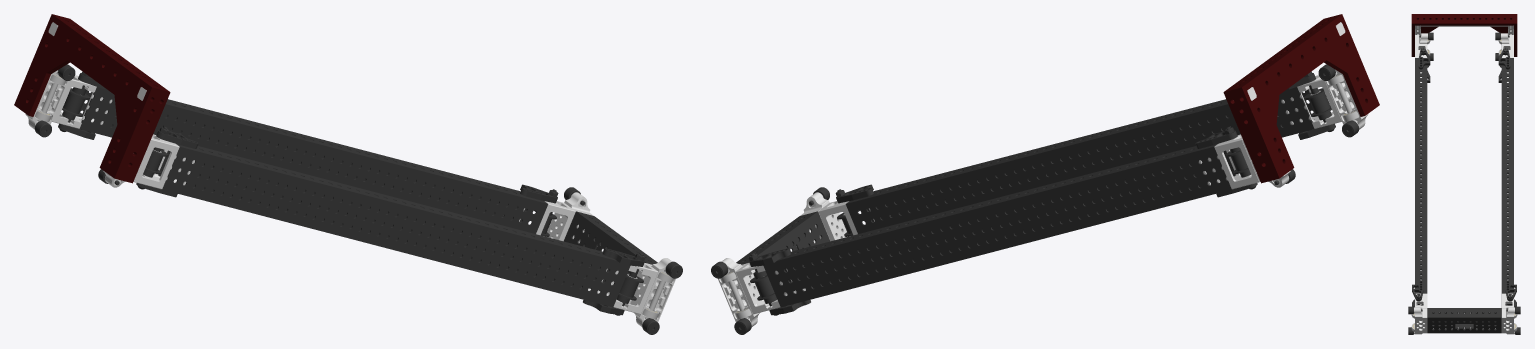
3 renders of one model, left to right at view 1: azimuth 30°, elevation 25°; view 2: azimuth 150°, elevation 25°; view 3: azimuth 270°, elevation 25°, orthographic. The views are drawn at different scales.
Parts seen in each view (by area): view 1: 2" x 1" x 0.0625" Aluminum Box Tube (24.5" L, Full Pattern,  (×2), Part 34, WCP-2113-001 Rev1 (×4), Part 35, Tube 2"x1"x6", Part 36, WCP-2072-001 Rev1, WCP-2072-001 Rev1-Mirrored; view 2: 2" x 1" x 0.0625" Aluminum Box Tube (24.5" L, Full Pattern,  (×2), Part 34, WCP-2113-001 Rev1 (×4), Part 35, Tube 2"x1"x6", Part 36, WCP-2072-001 Rev1-Mirrored, WCP-2072-001 Rev1; view 3: 2" x 1" x 0.0625" Aluminum Box Tube (24.5" L, Full Pattern,  (×2), Tube 2"x1"x6", Part 36, Continuous Elevator Hardstop (×4), WCP-2113-001 Rev1 (×4), WCP-2072-001 Rev1 (×2), WCP-2072-001 Rev1-Mirrored (×2), Part 35 (×2), Part 34.
Boxes of the visible parts, bbox=[...] form: 2" x 1" x 0.0625" Aluminum Box Tube (24.5" L, Full Pattern,  (×2): bbox=[79, 87, 630, 307]; Part 34: bbox=[17, 26, 142, 176]; WCP-2113-001 Rev1 (×4): bbox=[52, 75, 658, 314]; Part 35: bbox=[111, 91, 167, 183]; Tube 2"x1"x6": bbox=[564, 211, 657, 272]; Part 36: bbox=[49, 14, 170, 97]; WCP-2072-001 Rev1: bbox=[634, 258, 675, 326]; WCP-2072-001 Rev1-Mirrored: bbox=[25, 70, 68, 129]; 2" x 1" x 0.0625" Aluminum Box Tube (24.5" L, Full Pattern,  (×2): bbox=[763, 87, 1314, 307]; Part 34: bbox=[1251, 26, 1376, 176]; WCP-2113-001 Rev1 (×4): bbox=[735, 75, 1341, 314]; Part 35: bbox=[1226, 91, 1282, 183]; Tube 2"x1"x6": bbox=[736, 211, 829, 264]; Part 36: bbox=[1223, 14, 1344, 97]; WCP-2072-001 Rev1-Mirrored: bbox=[718, 258, 759, 326]; WCP-2072-001 Rev1: bbox=[1325, 70, 1368, 129]; 2" x 1" x 0.0625" Aluminum Box Tube (24.5" L, Full Pattern,  (×2): bbox=[1415, 58, 1513, 293]; Tube 2"x1"x6": bbox=[1427, 308, 1501, 333]; Part 36: bbox=[1411, 14, 1517, 25]; Continuous Elevator Hardstop (×4): bbox=[1412, 49, 1516, 301]; WCP-2113-001 Rev1 (×4): bbox=[1415, 43, 1513, 308]; WCP-2072-001 Rev1 (×2): bbox=[1415, 33, 1427, 334]; WCP-2072-001 Rev1-Mirrored (×2): bbox=[1501, 33, 1513, 334]; Part 35 (×2): bbox=[1411, 25, 1517, 56]; Part 34: bbox=[1421, 26, 1507, 33].
Bounding box in the file's own units: 0.7038 × 0.4353 × 0.2299.
